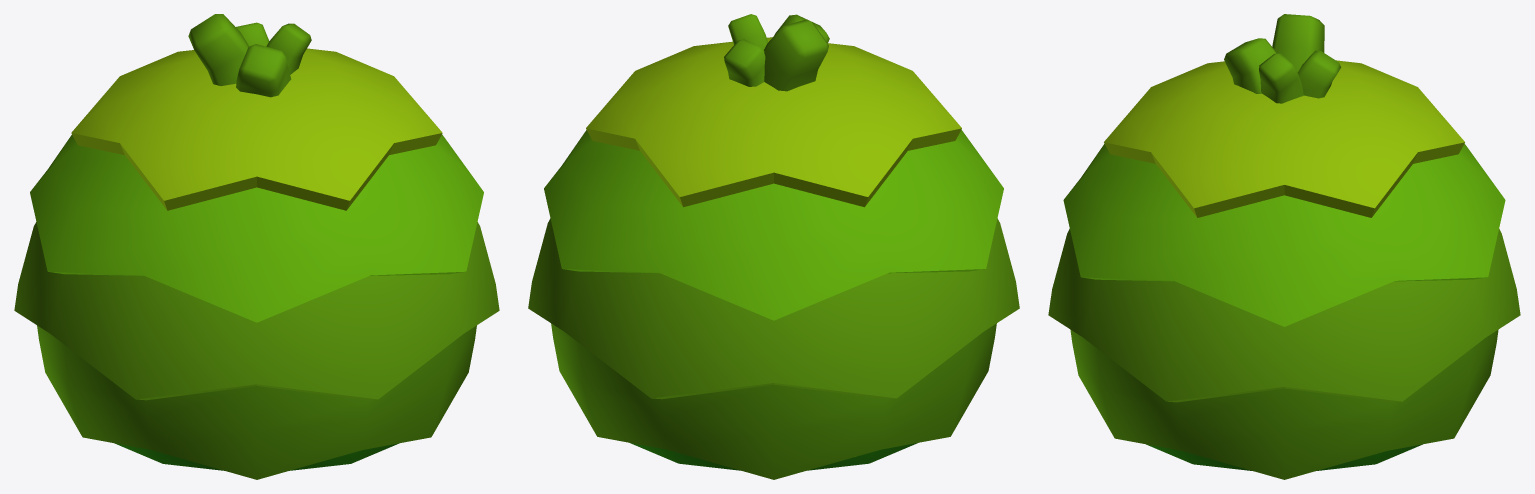
Rendered from Grass06.fbx.
The picture shows the model from 3 angles, left to right: view 1: azimuth 30°, elevation 25°; view 2: azimuth 150°, elevation 25°; view 3: azimuth 270°, elevation 25°; orthographic projection. The views are drawn at different scales.
Visible parts, largest first — view 1: LOD0; view 2: LOD0; view 3: LOD0.
Boxes of the visible parts, x1=… form: LOD0: x1=14, y1=14, x2=499, y2=479; LOD0: x1=528, y1=14, x2=1019, y2=479; LOD0: x1=1048, y1=14, x2=1520, y2=479.
Size of what is drawn, in the model's own units: 172 by 173 by 149.
